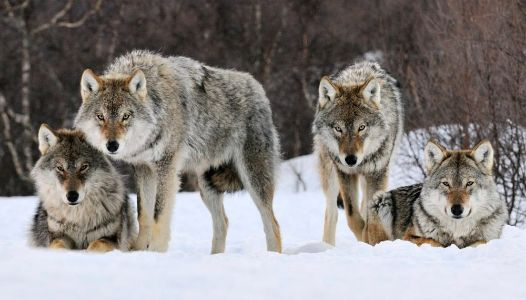wolf: (83, 49, 291, 252), (309, 57, 405, 243), (29, 122, 131, 249), (404, 136, 511, 251)
